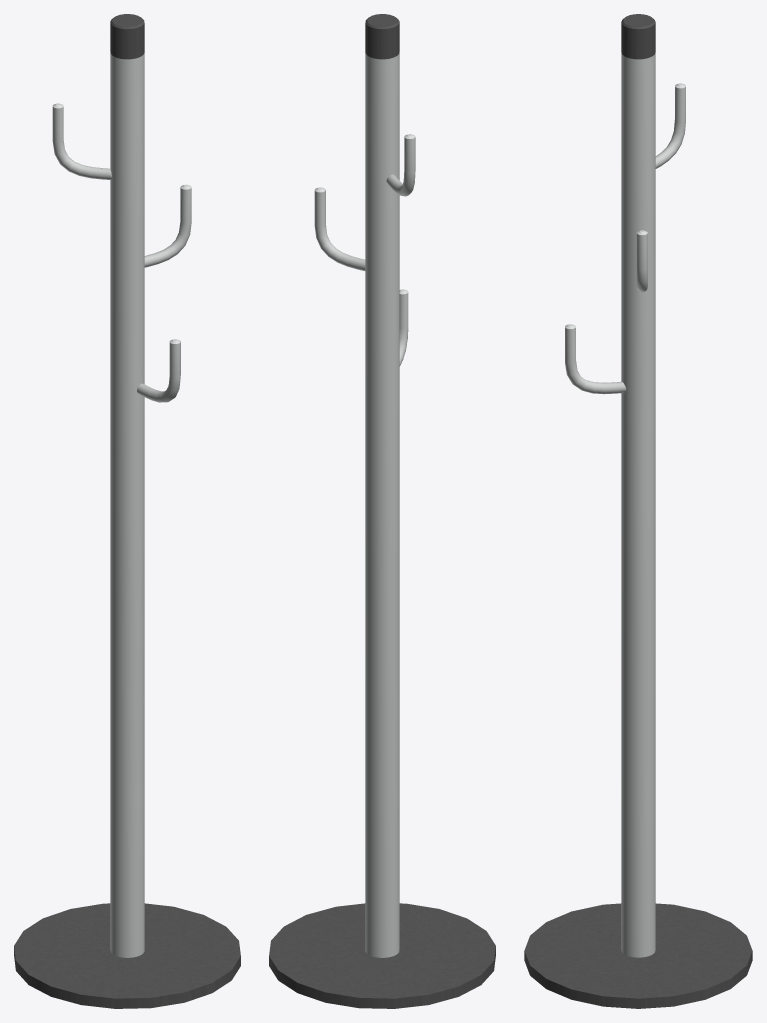
File: 3D004_Office_Hanger.FBX
The picture shows the model from 3 angles, left to right: view 1: azimuth 30°, elevation 25°; view 2: azimuth 150°, elevation 25°; view 3: azimuth 270°, elevation 25°; orthographic projection.
Visible parts, largest first — view 1: 3D004_Office_Hanger; view 2: 3D004_Office_Hanger; view 3: 3D004_Office_Hanger.
Part boxes in pixels (x1,y1,x2,y2): 3D004_Office_Hanger: (14, 14, 240, 1008); 3D004_Office_Hanger: (269, 14, 495, 1008); 3D004_Office_Hanger: (524, 14, 752, 1008).
Bounding box in the file's own units: 40 × 182 × 40.
